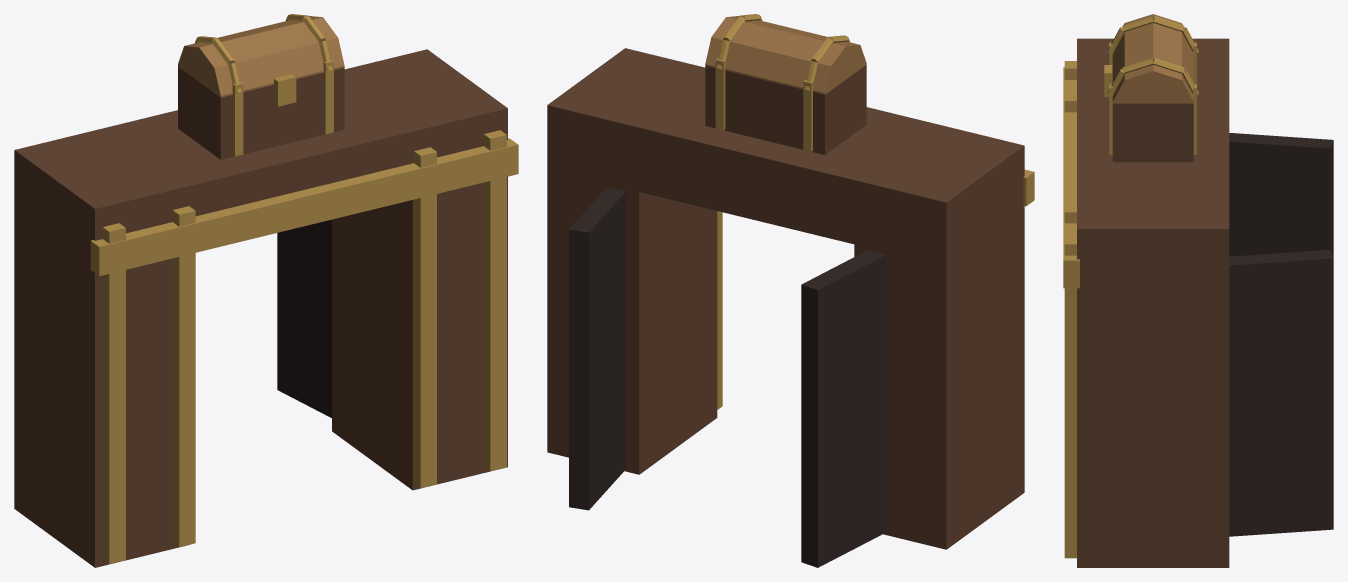
File: PirateCove_TreasureVaultGate_Standard.glb
3 renders of one model, left to right at view 1: azimuth 30°, elevation 25°; view 2: azimuth 150°, elevation 25°; view 3: azimuth 270°, elevation 25°, orthographic. The views are drawn at different scales.
Visible parts, largest first — view 1: PirateCove_TreasureVaultGate_Standard; view 2: PirateCove_TreasureVaultGate_Standard; view 3: PirateCove_TreasureVaultGate_Standard.
Boxes of the visible parts, x1=… form: PirateCove_TreasureVaultGate_Standard: x1=14, y1=14, x2=518, y2=567; PirateCove_TreasureVaultGate_Standard: x1=547, y1=14, x2=1034, y2=567; PirateCove_TreasureVaultGate_Standard: x1=1063, y1=14, x2=1333, y2=567.
Size of the model in its own units: 3.3 by 3.46 by 1.95.
